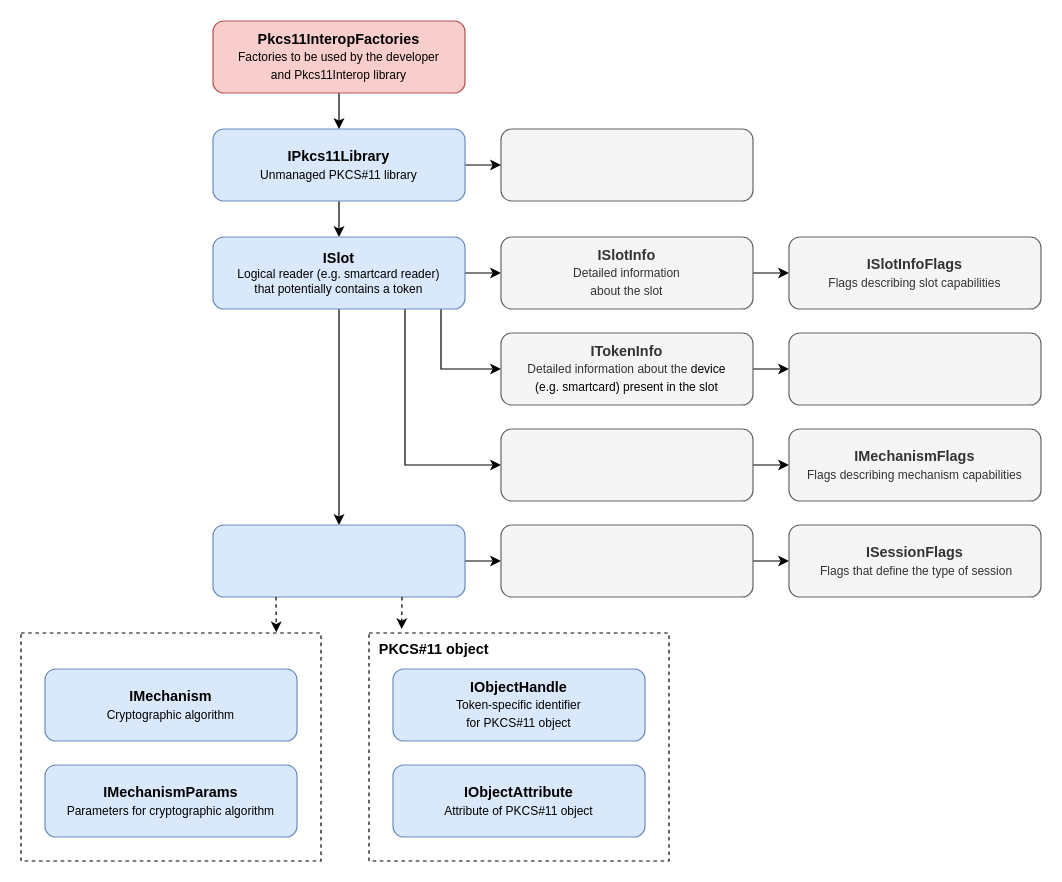
This 1062x882 diagram has some shape labels left out. The shapes that lost their labels are listed below. From the top down, each one's box as (x1, y1, x2, y2) in pixels, then its label:
(500, 128, 753, 201): ILibraryInfo Detailed information about PKCS#11 library
(788, 332, 1041, 405): ITokenInfoFlags Flags describing token capabilities
(500, 428, 753, 501): IMechanismInfo Detailed information about the mechanism supported by the token
(212, 524, 465, 597): ISession Logical connection between the application and token
(500, 524, 753, 597): ISessionInfo Detailed information about the session
(20, 632, 321, 861): PKCS#11 mechanism
